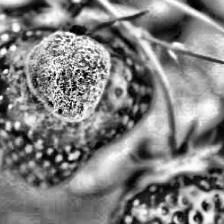Gray Mold: (1, 22, 128, 146)
